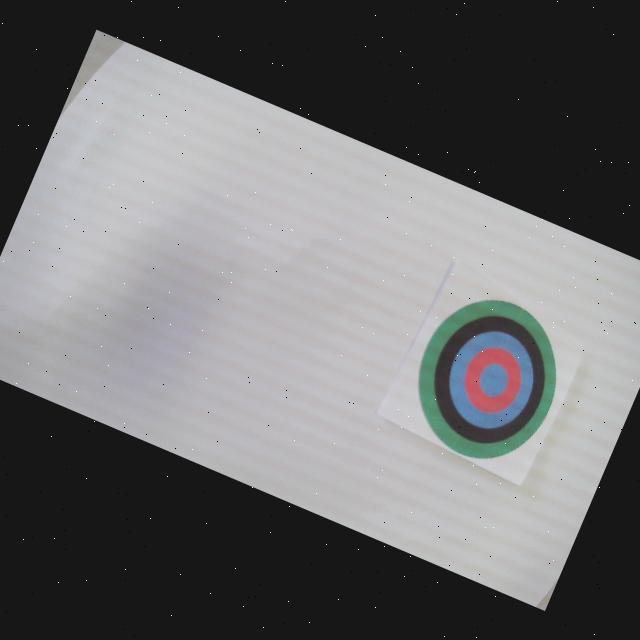COGNITIVE: (391, 277, 584, 481)
